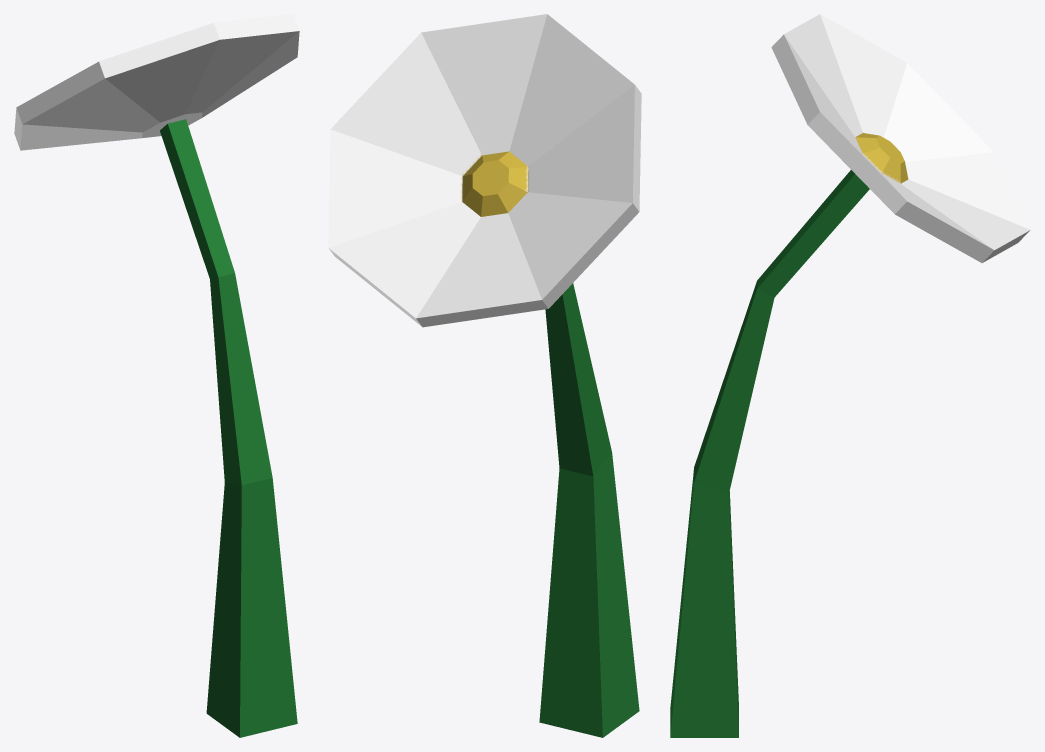
The model's file is flower_white.fbx.
3 renders of one model, left to right at view 1: azimuth 30°, elevation 25°; view 2: azimuth 150°, elevation 25°; view 3: azimuth 270°, elevation 25°, orthographic. The views are drawn at different scales.
Visible parts, largest first — view 1: flower_white; view 2: flower_white; view 3: flower_white.
Boxes of the visible parts, bbox=[...] form: flower_white: bbox=[14, 14, 299, 737]; flower_white: bbox=[328, 14, 641, 737]; flower_white: bbox=[670, 14, 1030, 737].
Bounding box in the file's own units: 11.49 × 26.65 × 12.63.
